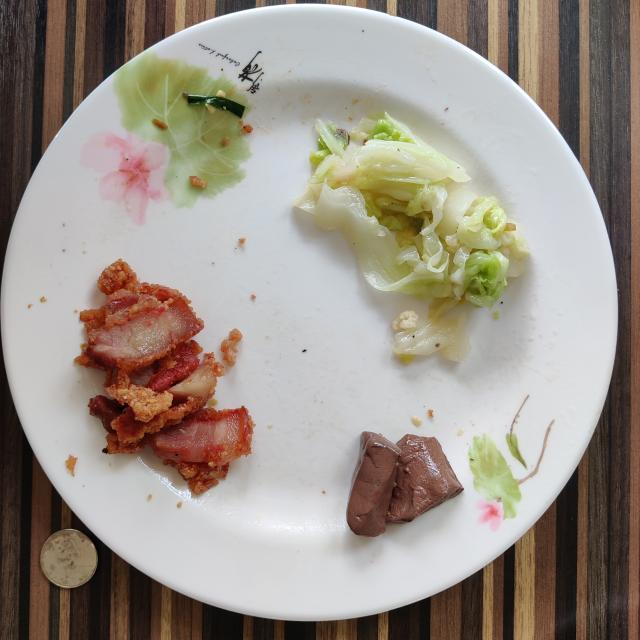cabbage: (292, 112, 530, 364)
coin: (40, 529, 98, 589)
pig blood curd: (346, 431, 464, 536)
red grilled pork: (75, 259, 254, 494)
